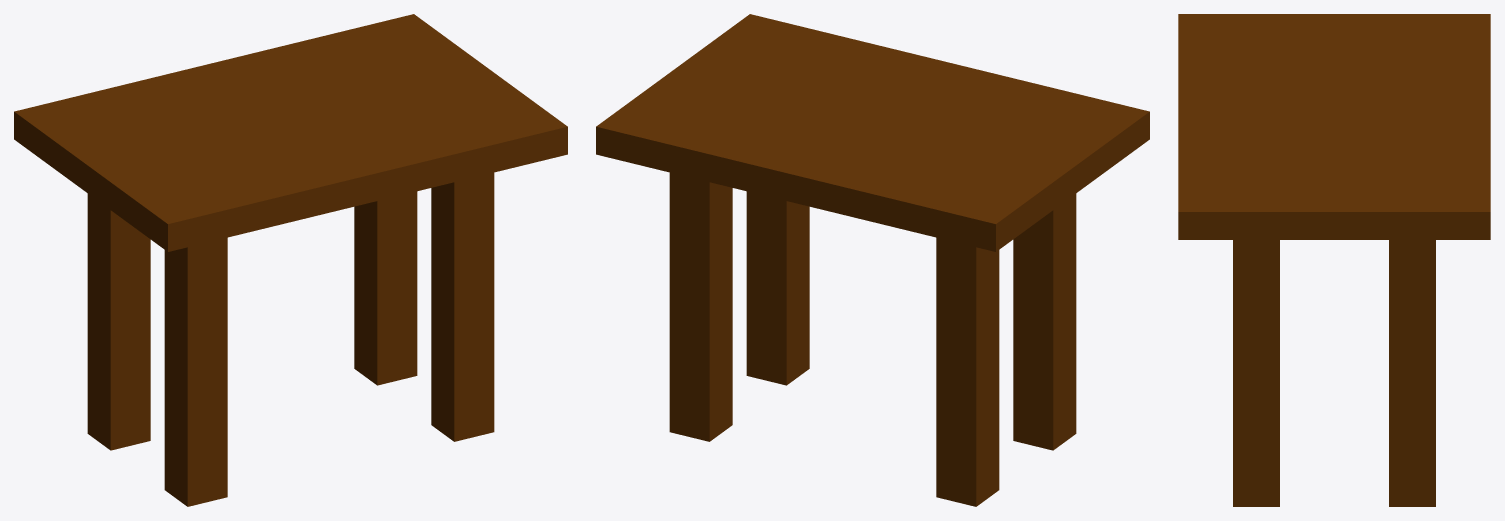
The model's file is Table.glb.
3 views of the same model, side by side, from view 1: azimuth 30°, elevation 25°; view 2: azimuth 150°, elevation 25°; view 3: azimuth 270°, elevation 25° (orthographic).
Visible parts, largest first — view 1: Untitled; view 2: Untitled; view 3: Untitled.
Boxes of the visible parts, left/top/right/bottom form: Untitled: left=14, top=14, right=567, bottom=506; Untitled: left=596, top=14, right=1149, bottom=506; Untitled: left=1178, top=14, right=1490, bottom=506.
Size of the model in its own units: 6 by 4.5 by 4.
1 material, 1 textured.
